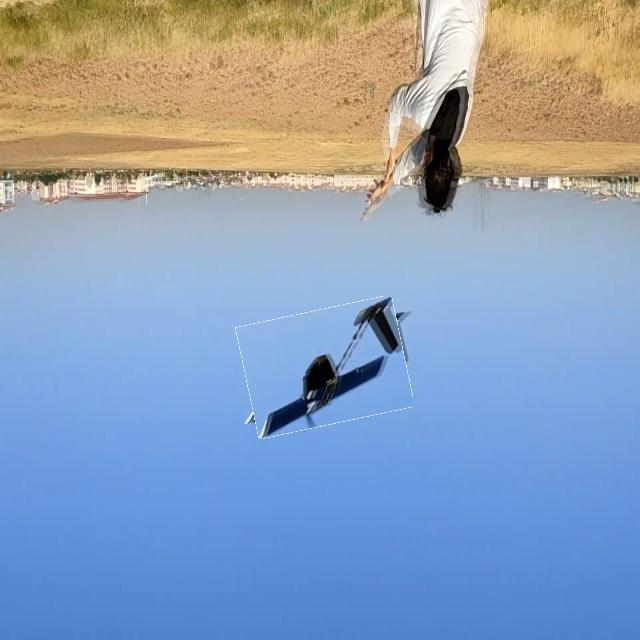UAV: (246, 318, 422, 446)
